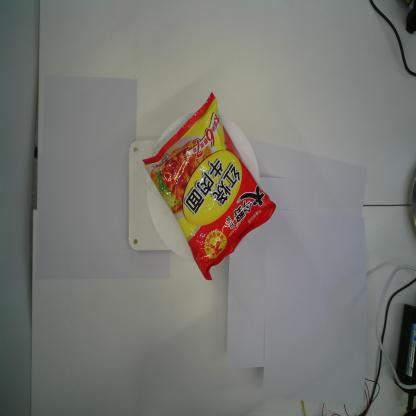Instant Noodles: (142, 90, 277, 282)
